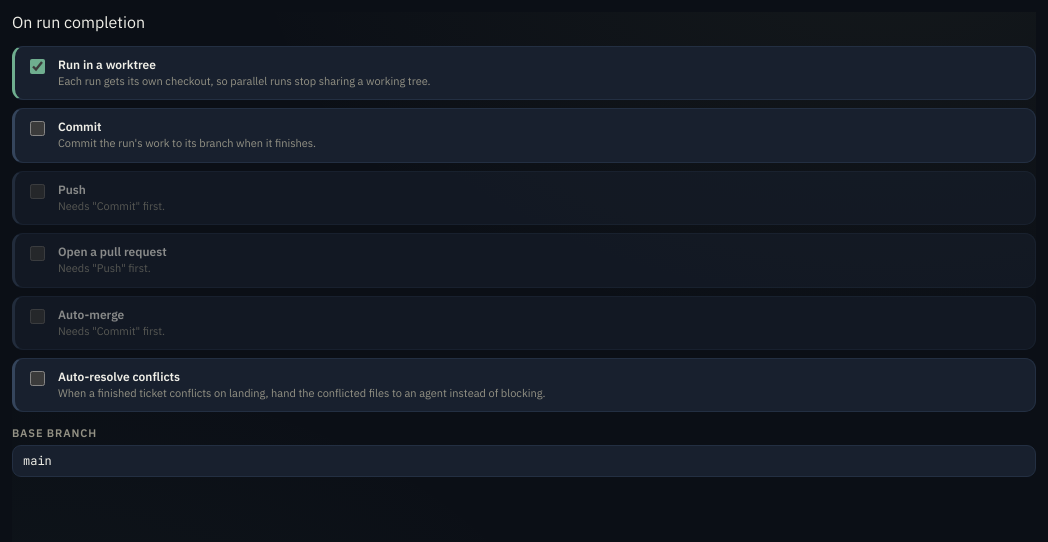
Test: reports a save failure rather than showing a stale state as saved
Check: the text "Commit" is shown, box [58, 119, 102, 134]
Step 1. Click the checkbox labelled "Commit Commit the run's work to its branch when it finishes." → coordinates (38, 129), box [30, 121, 45, 136]
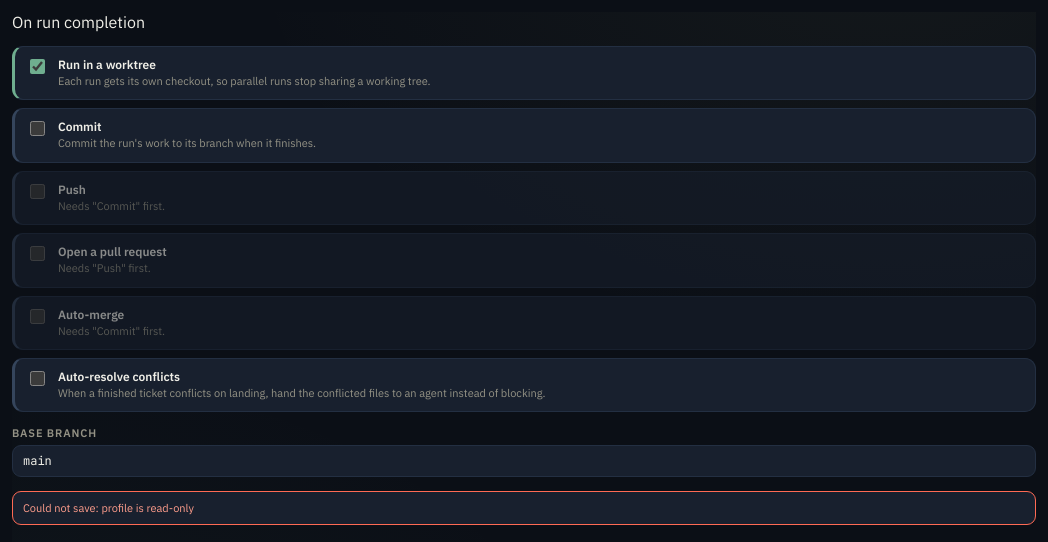
Check: the text "Could not save: profile is read-only" is shown, box [12, 491, 1036, 525]
